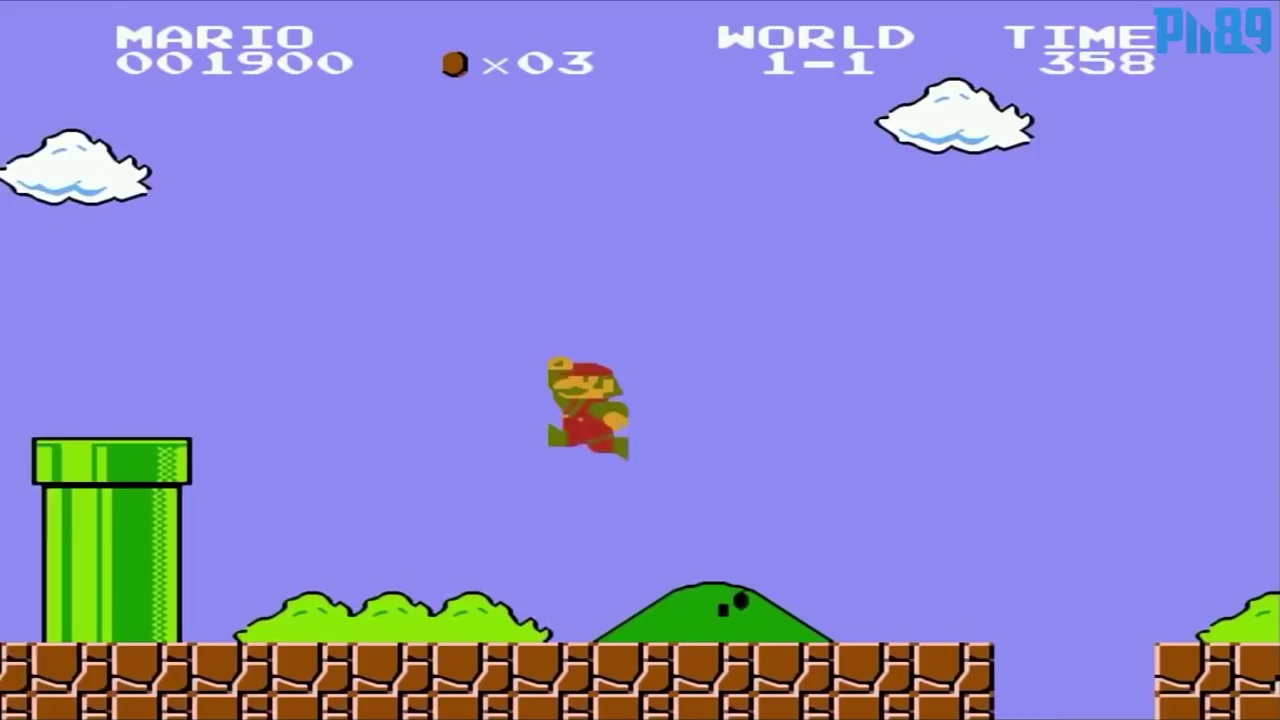mario: (538, 351, 637, 467)
